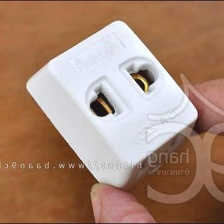three_eye_plug: (21, 17, 200, 196)
